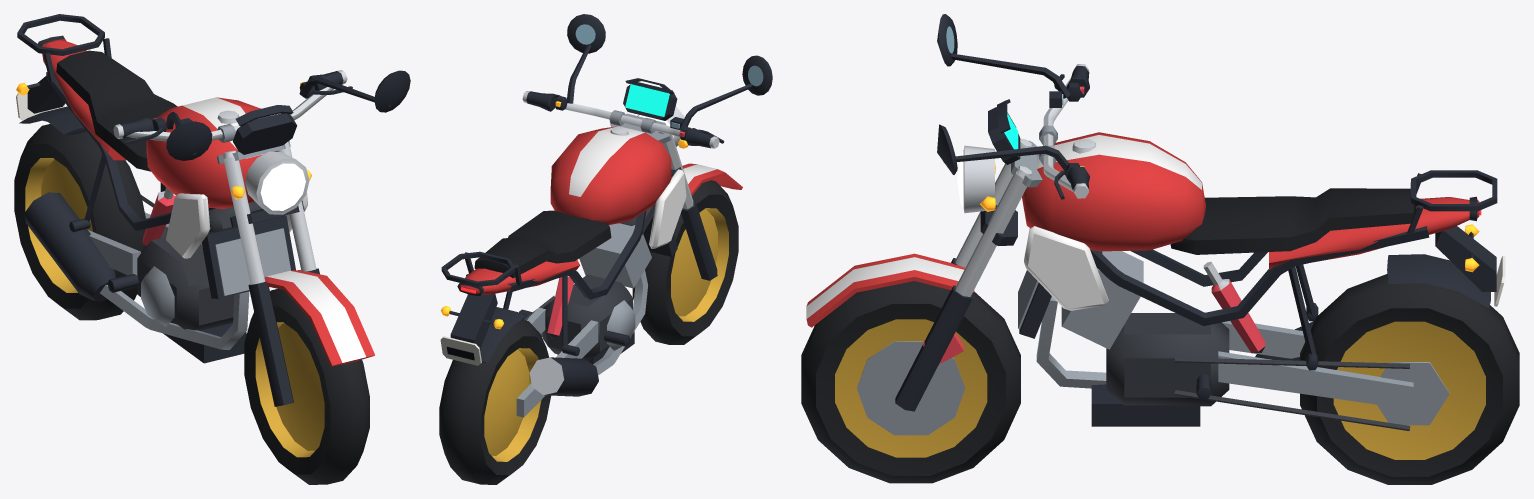
File: bike_sport.glb
3 renders of one model, left to right at view 1: azimuth 30°, elevation 25°; view 2: azimuth 150°, elevation 25°; view 3: azimuth 270°, elevation 25°, orthographic. The views are drawn at different scales.
Parts seen in each view (by area): view 1: frame, steer, wheel_F, wheel_R, mirror_L, mirror_R; view 2: frame, wheel_R, wheel_F, steer, mirror_L, mirror_R, dash; view 3: frame, wheel_F, wheel_R, steer, mirror_R, mirror_L.
Boxes of the visible parts, bbox=[...] form: frame: bbox=[16, 14, 307, 363]; steer: bbox=[113, 70, 374, 406]; wheel_F: bbox=[244, 289, 369, 484]; wheel_R: bbox=[14, 124, 145, 320]; mirror_L: bbox=[299, 70, 410, 112]; mirror_R: bbox=[166, 111, 212, 160]; frame: bbox=[440, 126, 686, 417]; wheel_R: bbox=[439, 319, 550, 484]; wheel_F: bbox=[632, 180, 738, 344]; steer: bbox=[522, 78, 742, 280]; mirror_L: bbox=[566, 14, 605, 103]; mirror_R: bbox=[679, 55, 772, 129]; dash: bbox=[625, 84, 669, 116]; frame: bbox=[1018, 132, 1505, 430]; wheel_F: bbox=[801, 281, 1020, 483]; wheel_R: bbox=[1300, 274, 1519, 484]; steer: bbox=[806, 64, 1089, 411]; mirror_R: bbox=[937, 14, 1070, 98]; mirror_L: bbox=[937, 124, 1068, 174].
Bounding box in the file's own units: 0.86 × 1.24 × 1.99.
